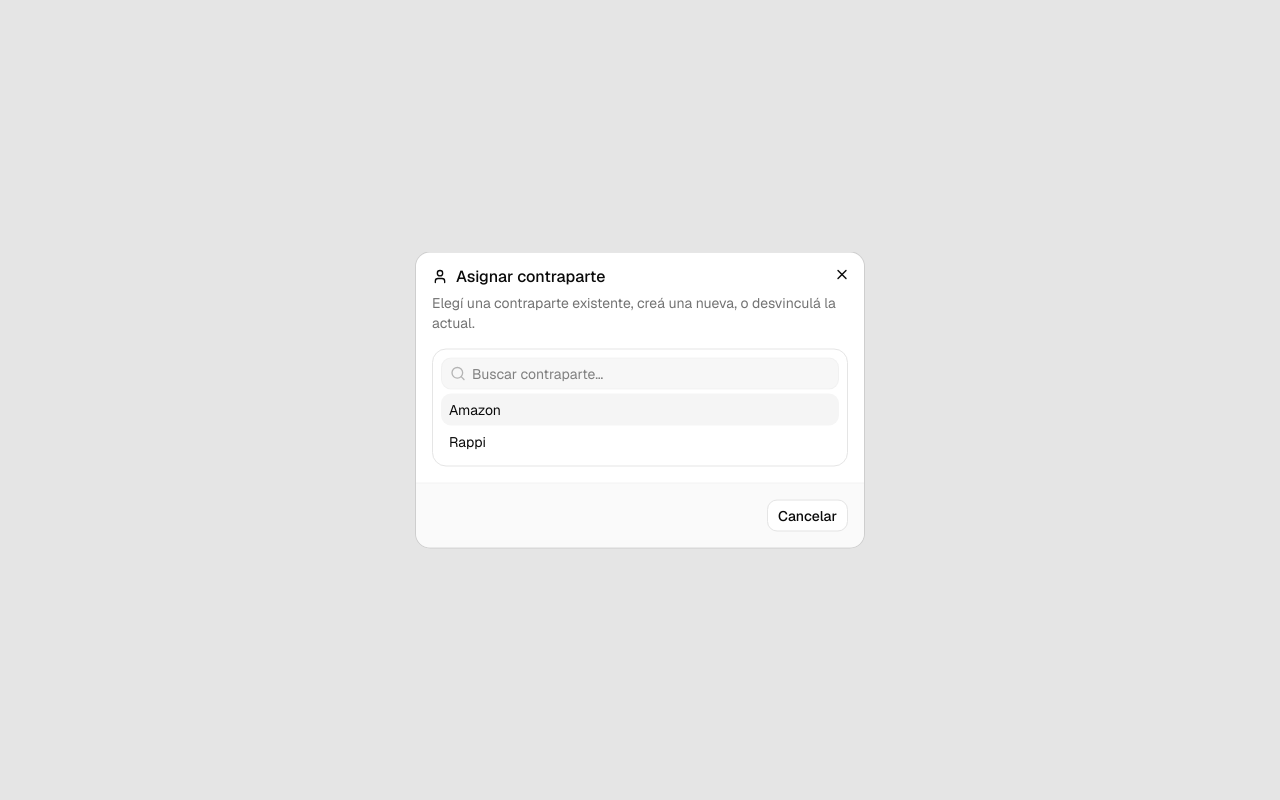
Test case: LinkCounterpartyDialog — create › shows 'Crear «X»' item when search has no exact match
Type "Nuevo Negocio" into the dropdown with placeholder "Buscar contraparte…" at (652, 374), box [466, 364, 838, 384]
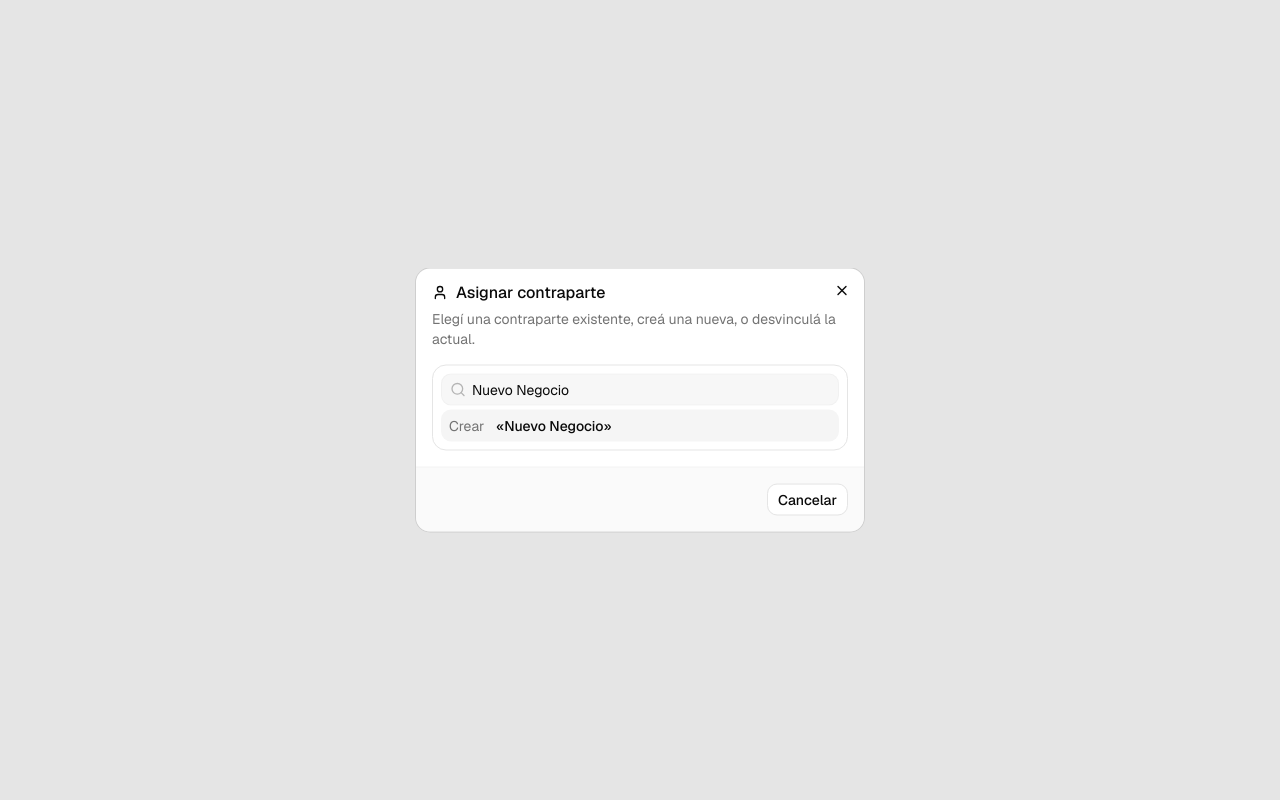
Expected: the option with test id "create-counterparty-item" shows "Crear", [441, 410, 839, 442]
Expected: the option with test id "create-counterparty-item" shows "«Nuevo Negocio»", [441, 410, 839, 442]
